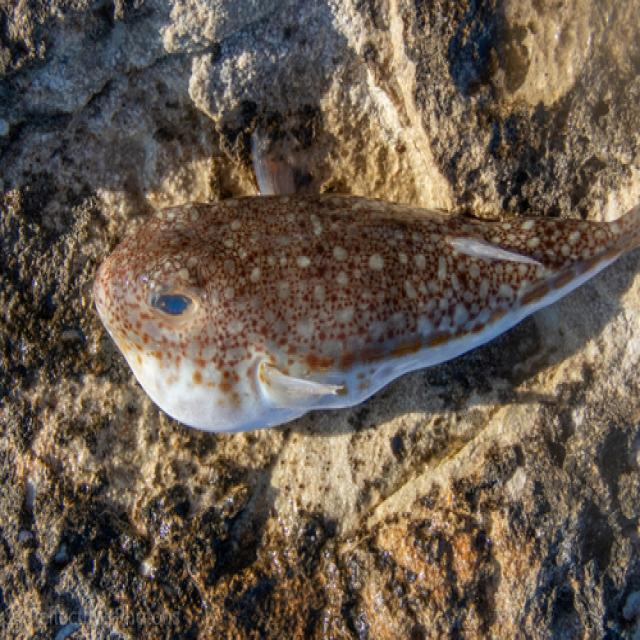Balik: (94, 195, 639, 431)
